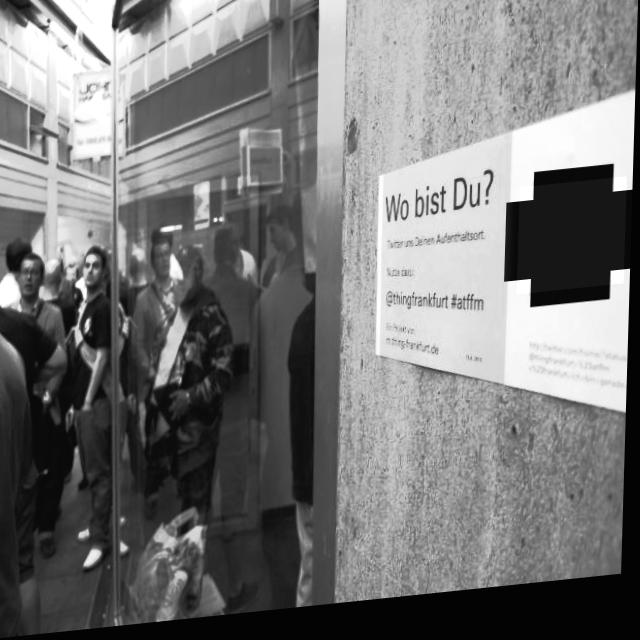qr_code: (519, 190, 628, 306)
